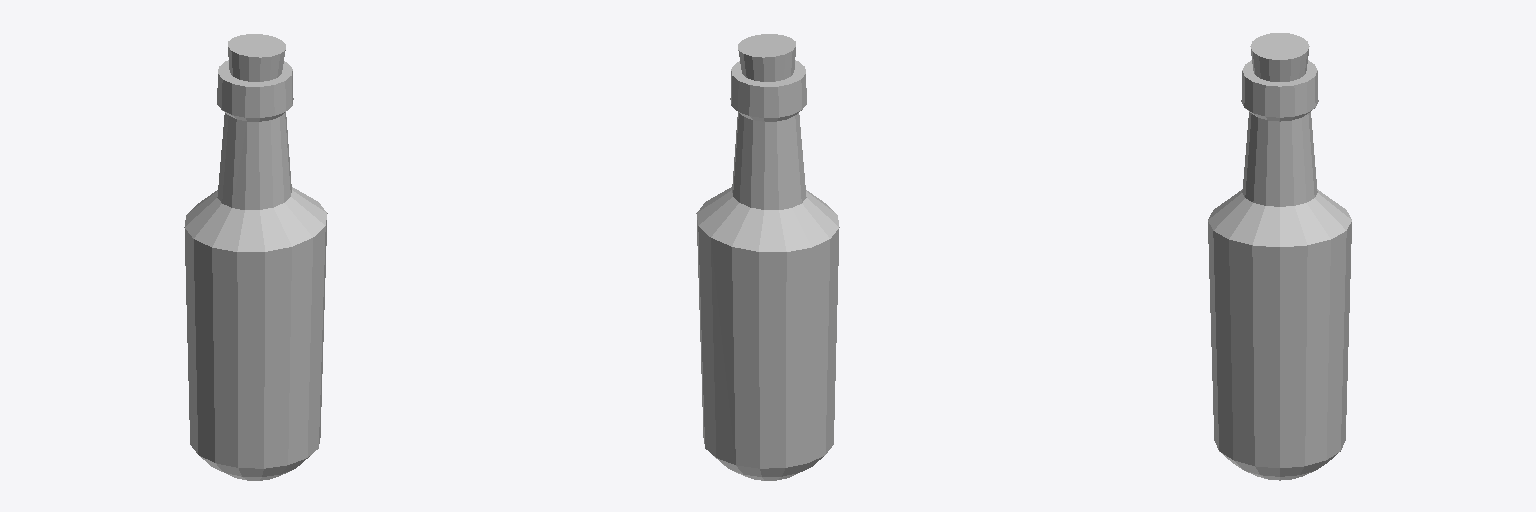
File: Bottle_1.obj
3 renders of one model, left to right at view 1: azimuth 30°, elevation 25°; view 2: azimuth 150°, elevation 25°; view 3: azimuth 270°, elevation 25°, orthographic.
Visible parts, largest first — view 1: Bottle_1_Cylinder.061; view 2: Bottle_1_Cylinder.061; view 3: Bottle_1_Cylinder.061.
Part boxes in pixels (left/top/right/bottom): Bottle_1_Cylinder.061: left=184, top=34, right=327, bottom=480; Bottle_1_Cylinder.061: left=696, top=34, right=839, bottom=480; Bottle_1_Cylinder.061: left=1208, top=33, right=1351, bottom=480.
Bounding box in the file's own units: 0.1127 × 0.3647 × 0.1129.